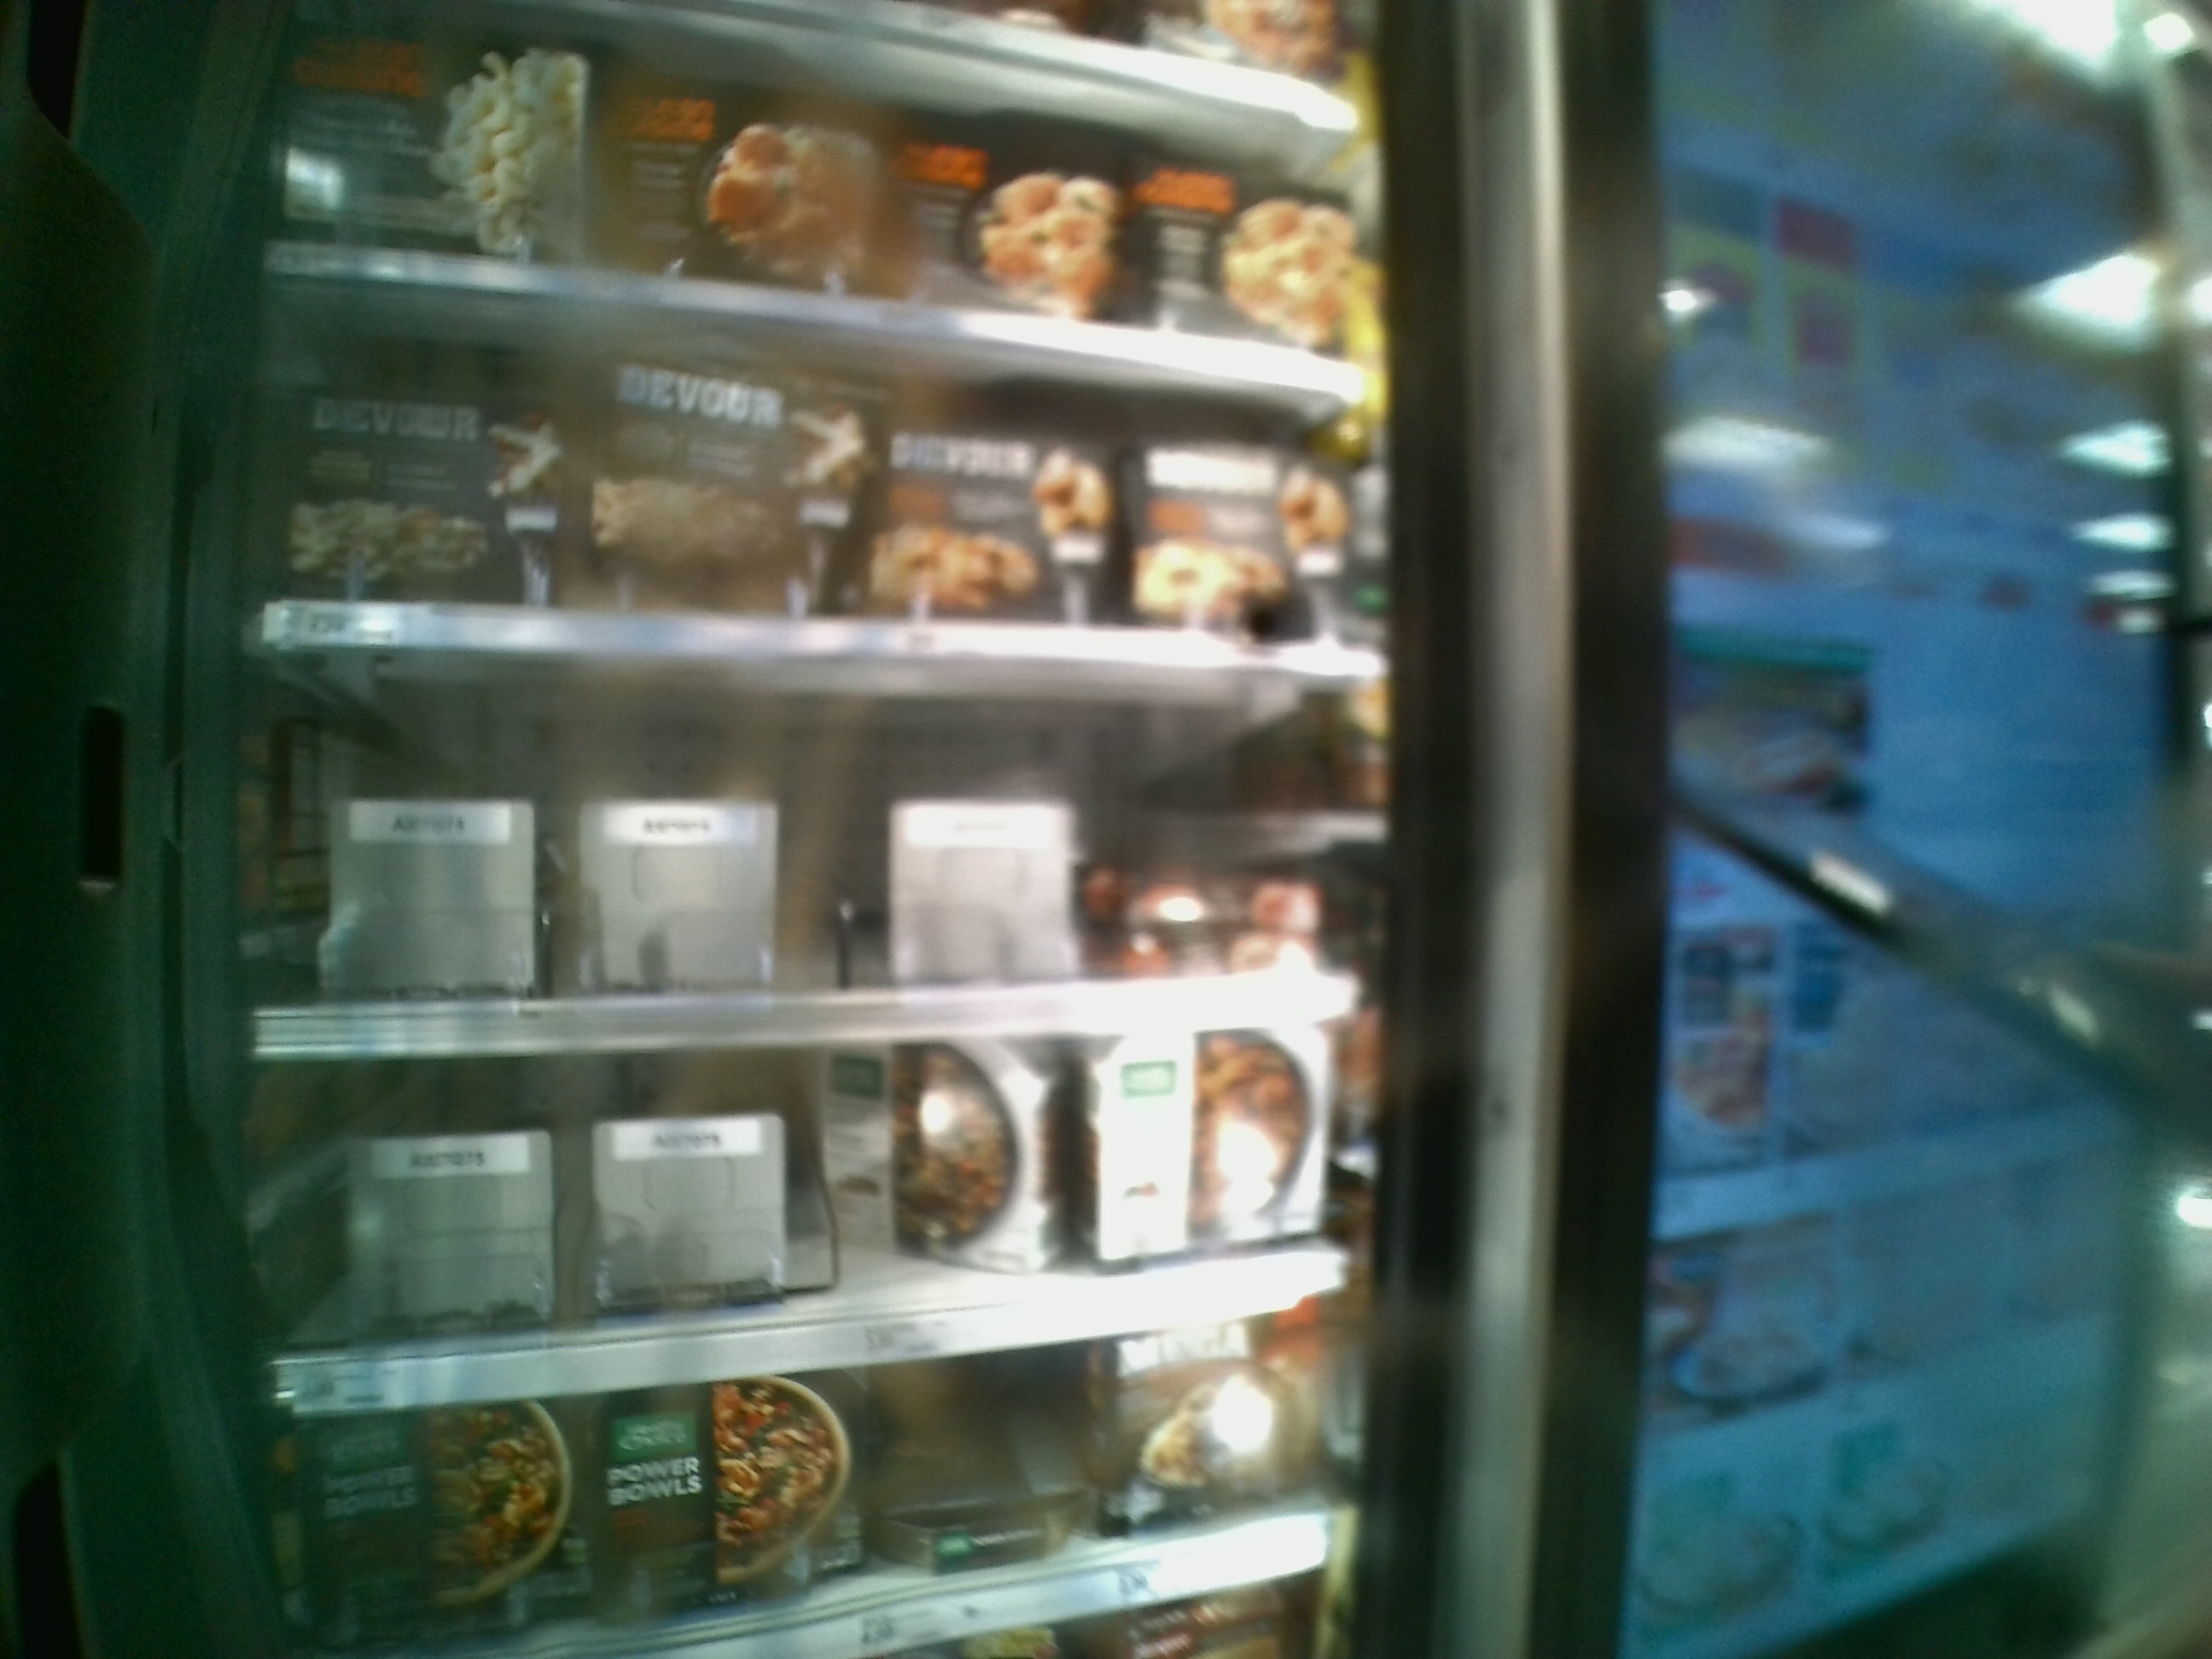shelf: (258, 641, 1383, 1054), (258, 995, 1371, 1406)
